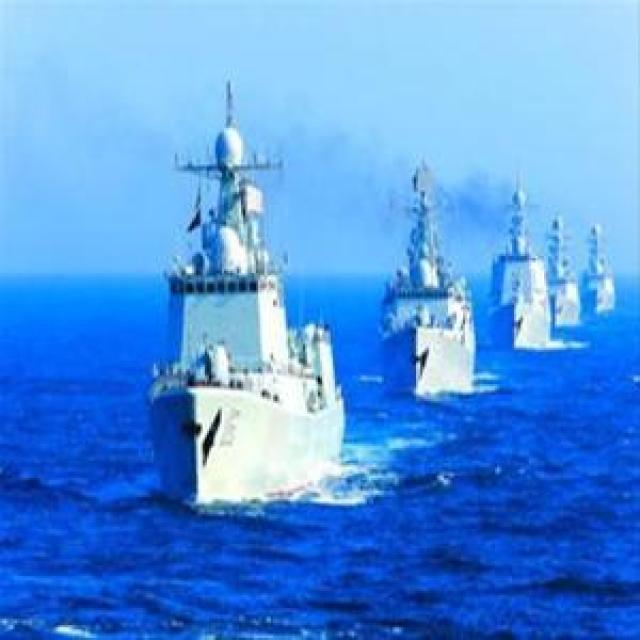navalvessels: (173, 93, 342, 555), (367, 163, 477, 398), (488, 178, 554, 360), (538, 210, 582, 335), (574, 212, 618, 315)
